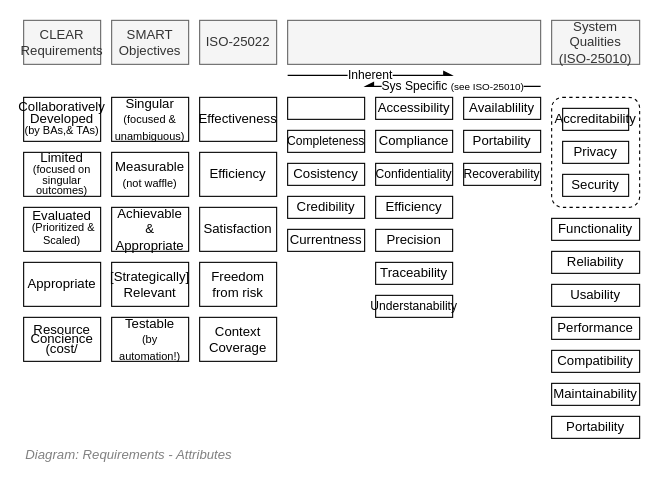
Image size: 659x485. Some labels were removed from this diagram. Here are the shapes that lost their labels. From the top down, the centre of each, then its label:
At (x=414, y=41): "Data Qualities (ISO-25012)".
At (x=326, y=107): "Accuracy".
